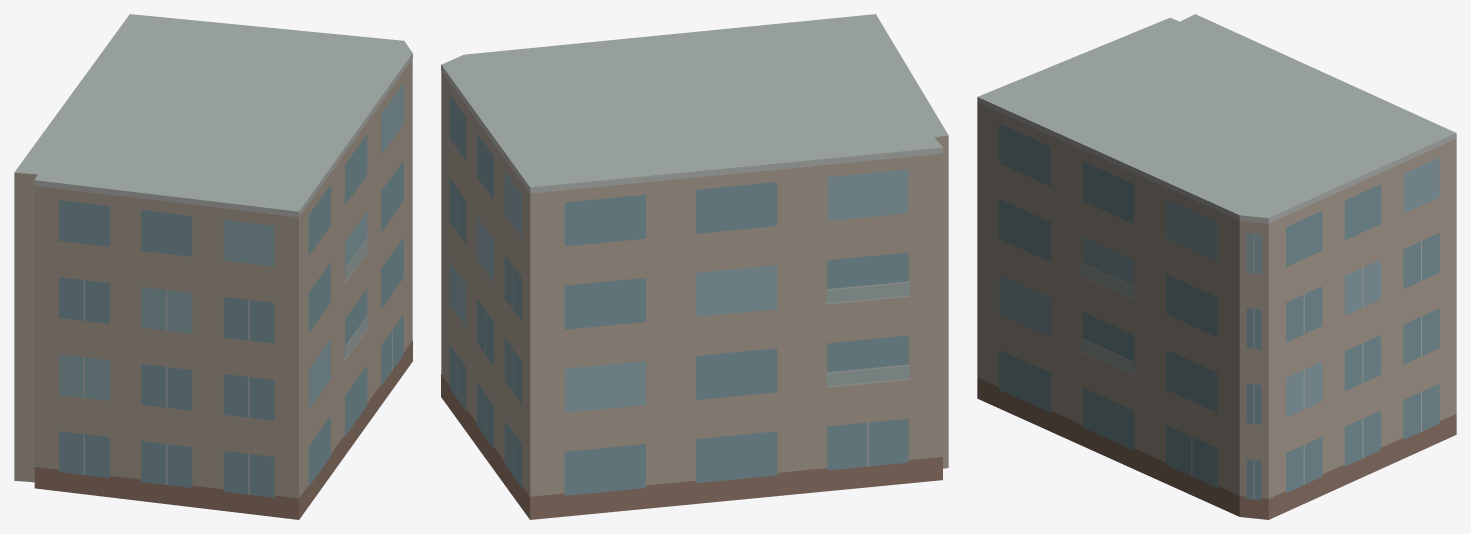
The model's file is survey-upis-32624067.glb.
3 renders of one model, left to right at view 1: azimuth 30°, elevation 25°; view 2: azimuth 150°, elevation 25°; view 3: azimuth 270°, elevation 25°, orthographic. The views are drawn at different scales.
Parts seen in each view (by area): view 1: survey-upis-32624067.tmp; view 2: survey-upis-32624067.tmp; view 3: survey-upis-32624067.tmp.
Part boxes in pixels (left/top/right/bottom): survey-upis-32624067.tmp: left=14, top=14, right=412, bottom=519; survey-upis-32624067.tmp: left=441, top=14, right=948, bottom=519; survey-upis-32624067.tmp: left=977, top=14, right=1456, bottom=519.
Size of the model in its own units: 19.18 by 13.2 by 19.01.
